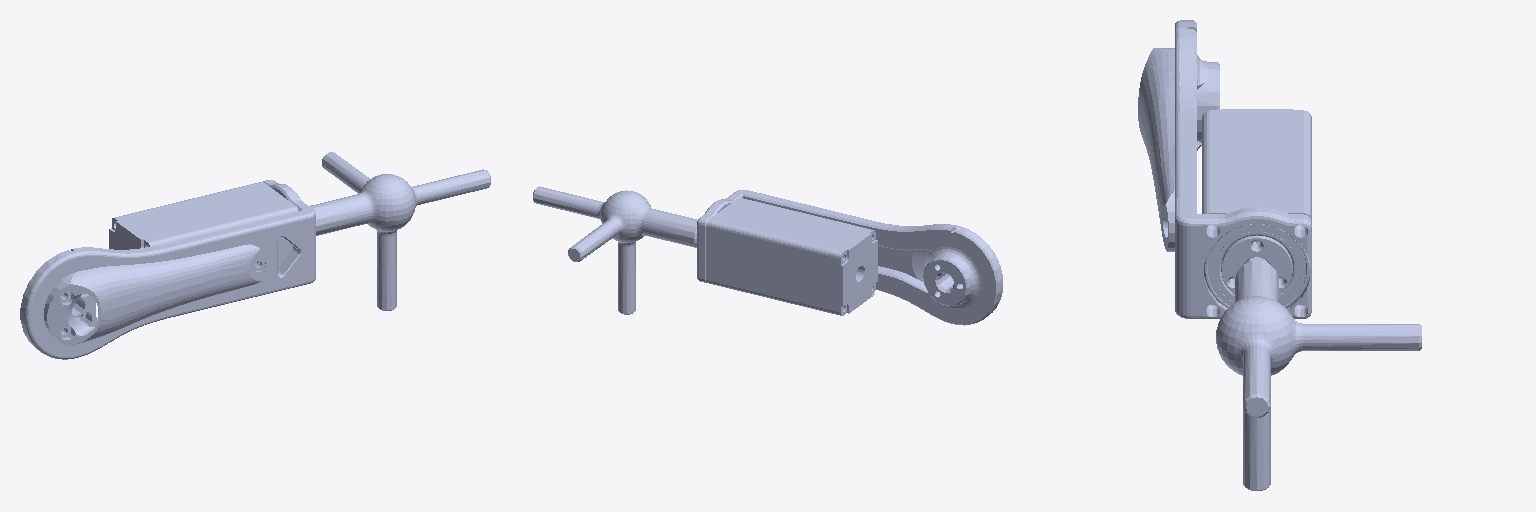
robot.urdf — dummy:
<?xml version="1.0" encoding="utf-8"?>
<!-- This URDF was automatically created by SolidWorks to URDF Exporter! Originally created by [author] ([email redacted]) 
     Commit Version: 1.6.0-4-g7f85cfe  Build Version: 1.6.7995.38578
     For more information, please see http://wiki.ros.org/sw_urdf_exporter -->
<robot
  name="dummy">
  
  
  <link
    name="base_link">
    <inertial>
      <origin
        xyz="0.064069 5.1162E-05 0.0085905"
        rpy="0 0 0" />
      <mass
        value="1.6762" />
      <inertia
        ixx="0.0064782"
        ixy="-4.1905E-07"
        ixz="-1.5099E-05"
        iyy="0.0090975"
        iyz="-4.5663E-07"
        izz="0.015025" />
    </inertial>
    <visual>
      <origin
        xyz="0 0 0"
        rpy="0 0 0" />
      <geometry>
        <mesh
          filename="package://dummy/meshes/base_link.STL" />
      </geometry>
      <material
        name="">
        <color
          rgba="0.79216 0.81961 0.93333 1" />
      </material>
    </visual>
    <collision>
      <origin
        xyz="0 0 0"
        rpy="0 0 0" />
      <geometry>
        <mesh
          filename="package://dummy/meshes/base_link.STL" />
      </geometry>
    </collision>
  </link>
  
  
  <link
    name="shoulder_Link">
    <inertial>
      <origin
        xyz="0.0058837 0.0056902 0.011066"
        rpy="0 0 0" />
      <mass
        value="0.053714" />
      <inertia
        ixx="1.9431E-05"
        ixy="-7.1474E-06"
        ixz="-5.1109E-06"
        iyy="2.2647E-05"
        iyz="-3.282E-06"
        izz="3.2006E-05" />
    </inertial>
    <visual>
      <origin
        xyz="0 0 0"
        rpy="0 0 0" />
      <geometry>
        <mesh
          filename="package://dummy/meshes/shoulder_Link.STL" />
      </geometry>
      <material
        name="">
        <color
          rgba="0.79216 0.81961 0.93333 1" />
      </material>
    </visual>
    <collision>
      <origin
        xyz="0 0 0"
        rpy="0 0 0" />
      <geometry>
        <mesh
          filename="package://dummy/meshes/shoulder_Link.STL" />
      </geometry>
    </collision>
  </link>
  
  
  <joint
    name="joint1"
    type="revolute">
    <origin
      xyz="0 0 0.0865"
      rpy="0 0 0" />
    <parent
      link="base_link" />
    <child
      link="shoulder_Link" />
    <axis
      xyz="0 0 1" />
    <limit
      lower="-2.97"
      upper="2.97"
      effort="150"
      velocity="3.15" />
  </joint>
  
  
  <link
    name="upper_Link">
    <inertial>
      <origin
        xyz="0.0020739 -0.070816 -0.0044564"
        rpy="0 0 0" />
      <mass
        value="0.31973" />
      <inertia
        ixx="0.00053392"
        ixy="-1.1923E-06"
        ixz="1.4352E-06"
        iyy="0.00010403"
        iyz="3.8322E-05"
        izz="0.00053419" />
    </inertial>
    <visual>
      <origin
        xyz="0 0 0"
        rpy="0 0 0" />
      <geometry>
        <mesh
          filename="package://dummy/meshes/upper_Link.STL" />
      </geometry>
      <material
        name="">
        <color
          rgba="0.79216 0.81961 0.93333 1" />
      </material>
    </visual>
    <collision>
      <origin
        xyz="0 0 0"
        rpy="0 0 0" />
      <geometry>
        <mesh
          filename="package://dummy/meshes/upper_Link.STL" />
      </geometry>
    </collision>
  </link>
  
  
  <joint
    name="joint2"
    type="revolute">
    <origin
      xyz="0.035 0 0.0275"
      rpy="-1.5708 0 0" />
    <parent
      link="shoulder_Link" />
    <child
      link="upper_Link" />
    <axis
      xyz="0 0 1" />
    <limit
      lower="-1.27"
      upper="1.57"
      effort="150"
      velocity="3.15" />
  </joint>
  
  
  <link
    name="forearm_Link">
    <inertial>
      <origin
        xyz="0.054311 -0.02026 -0.0035789"
        rpy="0 0 0" />
      <mass
        value="0.089711" />
      <inertia
        ixx="1.8295E-05"
        ixy="4.7772E-06"
        ixz="-6.0957E-06"
        iyy="3.7969E-05"
        iyz="2.2527E-06"
        izz="3.0248E-05" />
    </inertial>
    <visual>
      <origin
        xyz="0 0 0"
        rpy="0 0 0" />
      <geometry>
        <mesh
          filename="package://dummy/meshes/forearm_Link.STL" />
      </geometry>
      <material
        name="">
        <color
          rgba="0.79216 0.81961 0.93333 1" />
      </material>
    </visual>
    <collision>
      <origin
        xyz="0 0 0"
        rpy="0 0 0" />
      <geometry>
        <mesh
          filename="package://dummy/meshes/forearm_Link.STL" />
      </geometry>
    </collision>
  </link>
  
  
  <joint
    name="joint3"
    type="revolute">
    <origin
      xyz="0 -0.146 0"
      rpy="0 0 -1.5708" />
    <parent
      link="upper_Link" />
    <child
      link="forearm_Link" />
    <axis
      xyz="0 0 1" />
    <limit
      lower="-0.61"
      upper="1.57"
      effort="100"
      velocity="3.2" />
  </joint>
  
  
  <link
    name="wrist1_Link">
    <inertial>
      <origin
        xyz="-0.00014589 0.0051131 0.060438"
        rpy="0 0 0" />
      <mass
        value="0.085184" />
      <inertia
        ixx="5.4323E-05"
        ixy="3.4646E-09"
        ixz="7.7304E-08"
        iyy="5.7666E-05"
        iyz="1.8181E-06"
        izz="8.8729E-06" />
    </inertial>
    <visual>
      <origin
        xyz="0 0 0"
        rpy="0 0 0" />
      <geometry>
        <mesh
          filename="package://dummy/meshes/wrist1_Link.STL" />
      </geometry>
      <material
        name="">
        <color
          rgba="0.79216 0.81961 0.93333 1" />
      </material>
    </visual>
    <collision>
      <origin
        xyz="0 0 0"
        rpy="0 0 0" />
      <geometry>
        <mesh
          filename="package://dummy/meshes/wrist1_Link.STL" />
      </geometry>
    </collision>
  </link>
  
  
  <joint
    name="joint4"
    type="revolute">
    <origin
      xyz="0.052 0 0"
      rpy="1.5708 0 3.1416" />
    <parent
      link="forearm_Link" />
    <child
      link="wrist1_Link" />
    <axis
      xyz="0 0 1" />
    <limit
      lower="-3.14"
      upper="3.14"
      effort="50"
      velocity="3.2" />
  </joint>
  
  
  <link
    name="wrist2_Link">
    <inertial>
      <origin
        xyz="-6.7859E-06 0.039971 0.0050165"
        rpy="0 0 0" />
      <mass
        value="0.027968" />
      <inertia
        ixx="6.9036E-06"
        ixy="-1.5255E-09"
        ixz="2.427E-10"
        iyy="1.6847E-06"
        iyz="1.4886E-07"
        izz="7.2245E-06" />
    </inertial>
    <visual>
      <origin
        xyz="0 0 0"
        rpy="0 0 0" />
      <geometry>
        <mesh
          filename="package://dummy/meshes/wrist2_Link.STL" />
      </geometry>
      <material
        name="">
        <color
          rgba="0.79216 0.81961 0.93333 1" />
      </material>
    </visual>
    <collision>
      <origin
        xyz="0 0 0"
        rpy="0 0 0" />
      <geometry>
        <mesh
          filename="package://dummy/meshes/wrist2_Link.STL" />
      </geometry>
    </collision>
  </link>
  
  
  <joint
    name="joint5"
    type="revolute">
    <origin
      xyz="0 0 0.1225"
      rpy="1.5708 0 0" />
    <parent
      link="wrist1_Link" />
    <child
      link="wrist2_Link" />
    <axis
      xyz="0 0 -1" />
    <limit
      lower="-2.09"
      upper="2.09"
      effort="50"
      velocity="3.2" />
  </joint>
  
  
  <link
    name="wrist3_Link">
    <inertial>
      <origin
        xyz="0.0021192 0.0021217 0.027564"
        rpy="0 0 0" />
      <mass
        value="0.0039087" />
      <inertia
        ixx="5.6992E-07"
        ixy="1.7573E-08"
        ixz="-7.9691E-09"
        iyy="5.6998E-07"
        iyz="-7.7589E-09"
        izz="3.6006E-07" />
    </inertial>
    <visual>
      <origin
        xyz="0 0 0"
        rpy="0 0 0" />
      <geometry>
        <mesh
          filename="package://dummy/meshes/wrist3_Link.STL" />
      </geometry>
      <material
        name="">
        <color
          rgba="0.79216 0.81961 0.93333 1" />
      </material>
    </visual>
    <collision>
      <origin
        xyz="0 0 0"
        rpy="0 0 0" />
      <geometry>
        <mesh
          filename="package://dummy/meshes/wrist3_Link.STL" />
      </geometry>
    </collision>
  </link>
  
  
  <joint
    name="joint6"
    type="revolute">
    <origin
      xyz="0 0.0725 0.0005"
      rpy="-1.5708 0 0" />
    <parent
      link="wrist2_Link" />
    <child
      link="wrist3_Link" />
    <axis
      xyz="0 0 -1" />
    <limit
      lower="-12.56"
      upper="12.56"
      effort="50"
      velocity="0" />
  </joint>
</robot>

--- Facts derived from the render (not from the file) ---
The picture shows the robot from 3 angles, left to right: view 1: azimuth 30°, elevation 25°; view 2: azimuth 150°, elevation 25°; view 3: azimuth 270°, elevation 25°; orthographic projection.
Robot: dummy — 7 links, 6 joints (6 revolute); root link base_link; default pose: all joints at 0.
Visible links, largest first — view 1: wrist2_Link, wrist3_Link; view 2: wrist2_Link, wrist3_Link; view 3: wrist2_Link, wrist3_Link.
Link boxes in pixels (left/top/right/bottom): wrist2_Link: left=20, top=180, right=315, bottom=359; wrist3_Link: left=310, top=152, right=490, bottom=310; wrist2_Link: left=697, top=190, right=1002, bottom=325; wrist3_Link: left=533, top=186, right=697, bottom=314; wrist2_Link: left=1138, top=20, right=1311, bottom=318; wrist3_Link: left=1216, top=261, right=1421, bottom=490.
Bounding box of the posed robot: 0.146 × 0.0516 × 0.045 m (x, y, z).
2 mesh visuals loaded from 7 distinct referenced files (2 binary STL); not drawn: 5 (reference not matched to a file when rendering).